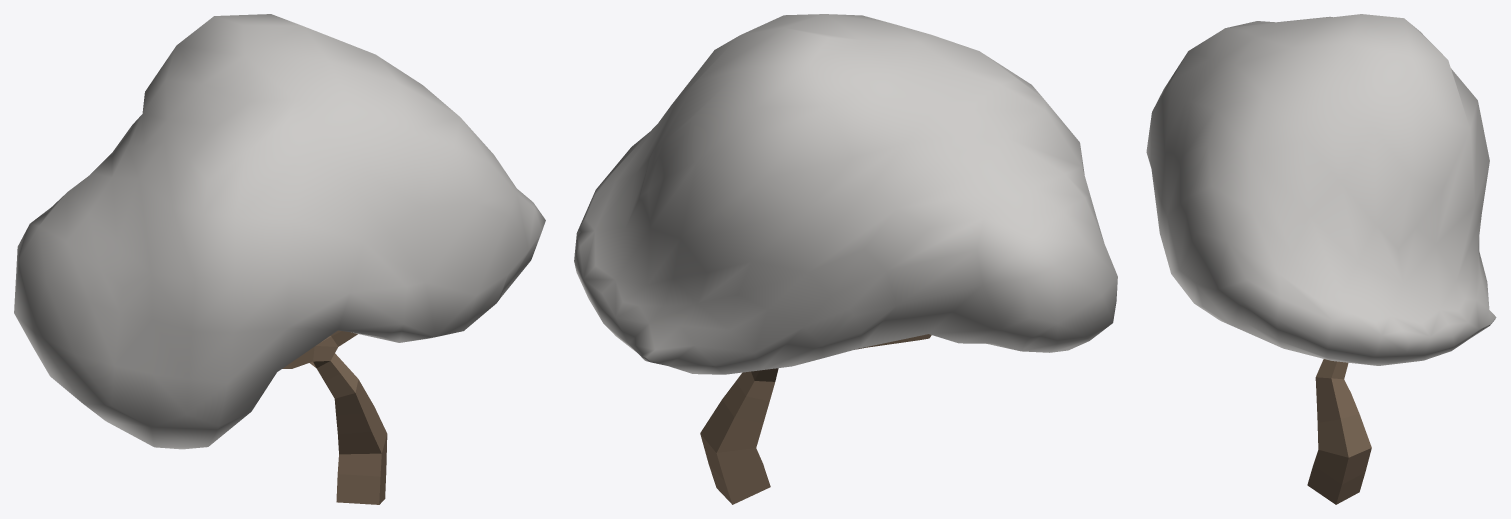
The model's file is Bush_008.fbx.
3 renders of one model, left to right at view 1: azimuth 30°, elevation 25°; view 2: azimuth 150°, elevation 25°; view 3: azimuth 270°, elevation 25°, orthographic. The views are drawn at different scales.
Parts seen in each view (by area): view 1: Bush.008; view 2: Bush.008; view 3: Bush.008.
Part boxes in pixels (x1=…): Bush.008: x1=14, y1=14, x2=545, y2=504; Bush.008: x1=574, y1=14, x2=1117, y2=504; Bush.008: x1=1146, y1=14, x2=1496, y2=504.
Bounding box in the file's own units: 317 × 302 × 219.
